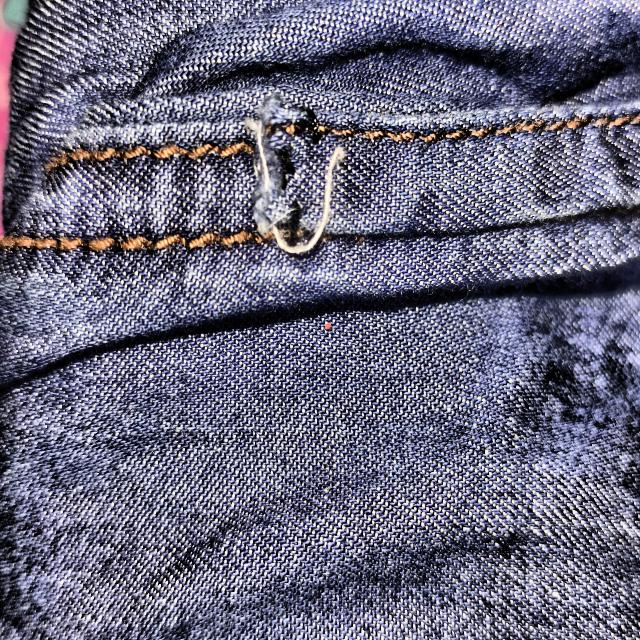Stitch: (240, 93, 355, 292)
